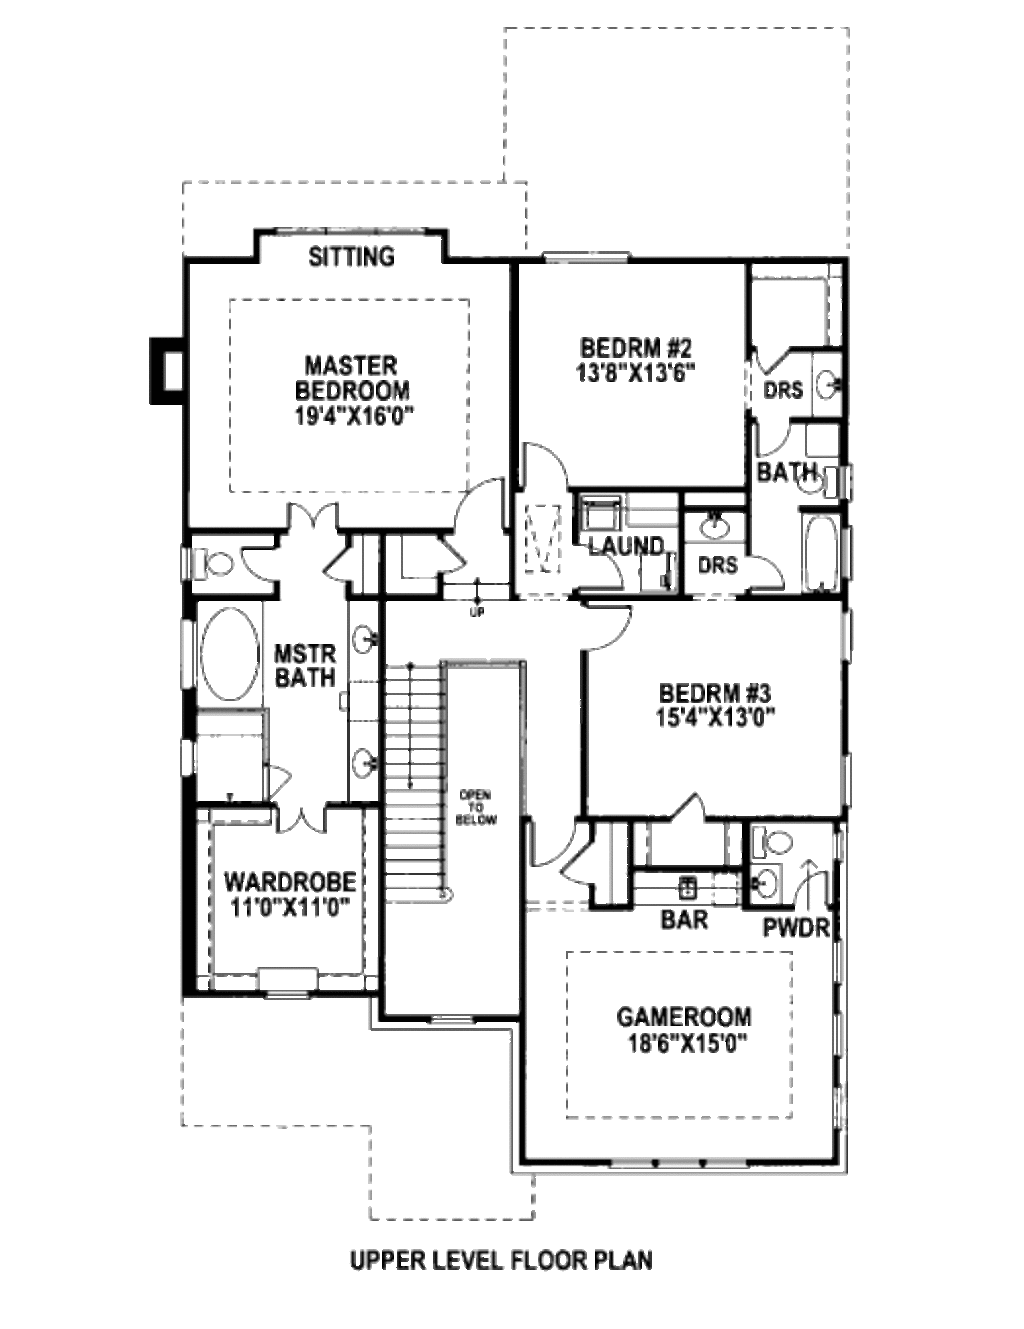door: (577, 598, 649, 653), (451, 476, 515, 535), (517, 435, 574, 494), (561, 829, 605, 890), (737, 551, 790, 600), (280, 800, 351, 837), (229, 539, 284, 586), (746, 419, 802, 466), (270, 498, 351, 529), (577, 543, 625, 592), (319, 535, 355, 588), (534, 819, 574, 864), (749, 339, 788, 380), (794, 872, 827, 917), (674, 788, 719, 819)
large_sink: (194, 533, 248, 592), (782, 465, 853, 506), (743, 825, 796, 866)
small_sink: (808, 355, 861, 431), (331, 596, 384, 672), (745, 857, 784, 910), (343, 745, 384, 788)
stairs: (376, 651, 466, 910)
tub: (802, 512, 843, 598)
window: (535, 241, 631, 274), (613, 1153, 743, 1174), (825, 925, 853, 980), (184, 612, 200, 704), (833, 1015, 853, 1061), (262, 986, 317, 1002), (429, 1010, 480, 1023)
